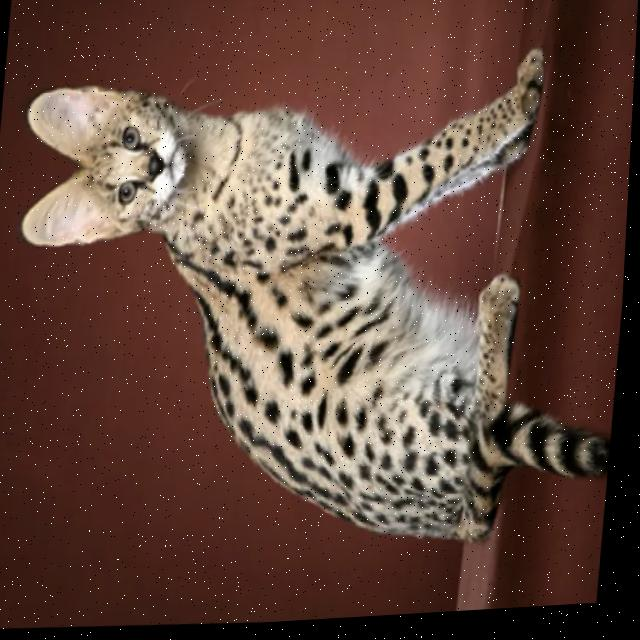Savannah: (0, 24, 638, 580)
